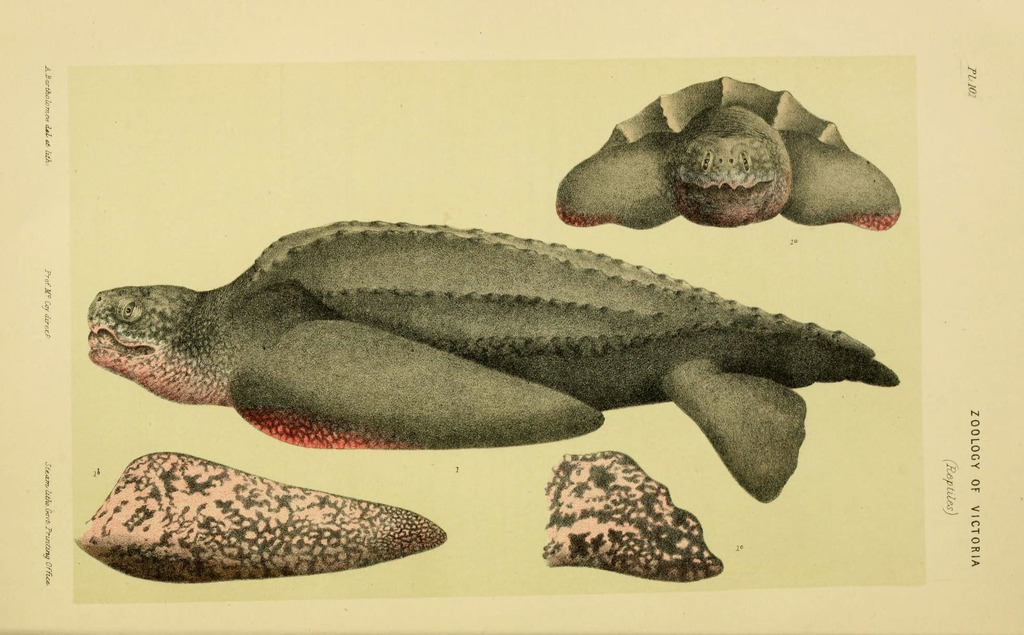Sea turtles: (83, 215, 898, 504), (557, 75, 898, 233)
